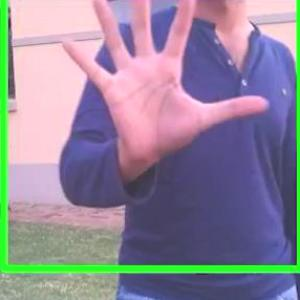follow_hand: (53, 0, 274, 165)
